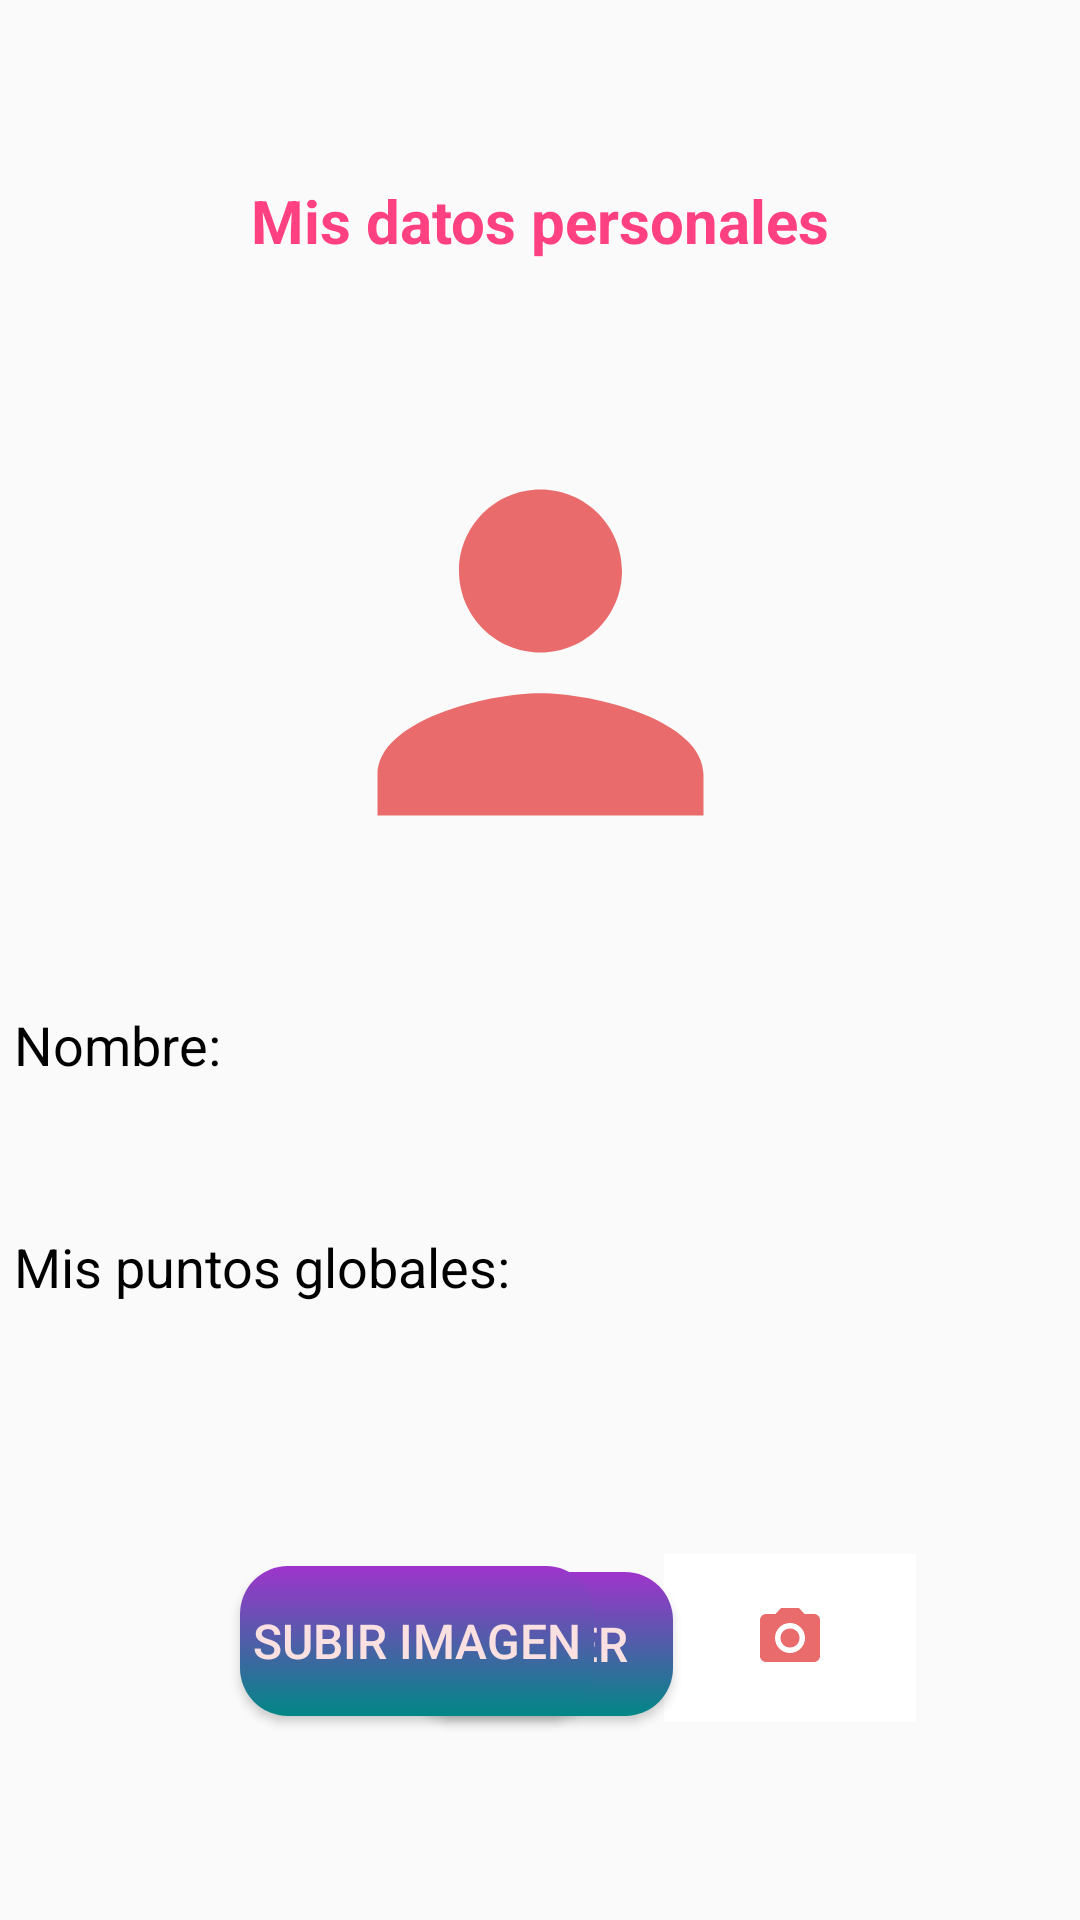

Screen size 1080w x 1920h. Icon name, then its box in pixels as (x1, y1, x2, y2):
Para sacar una foto desde la camara: (760, 1608, 820, 1662)
